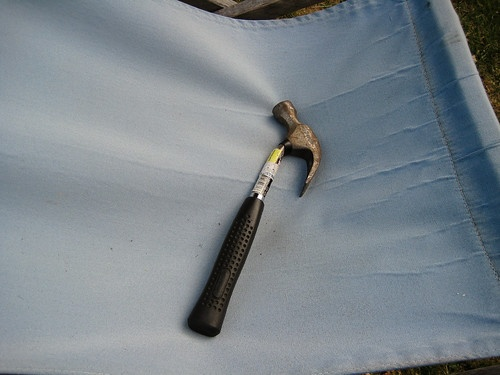hammer: (186, 98, 322, 336)
